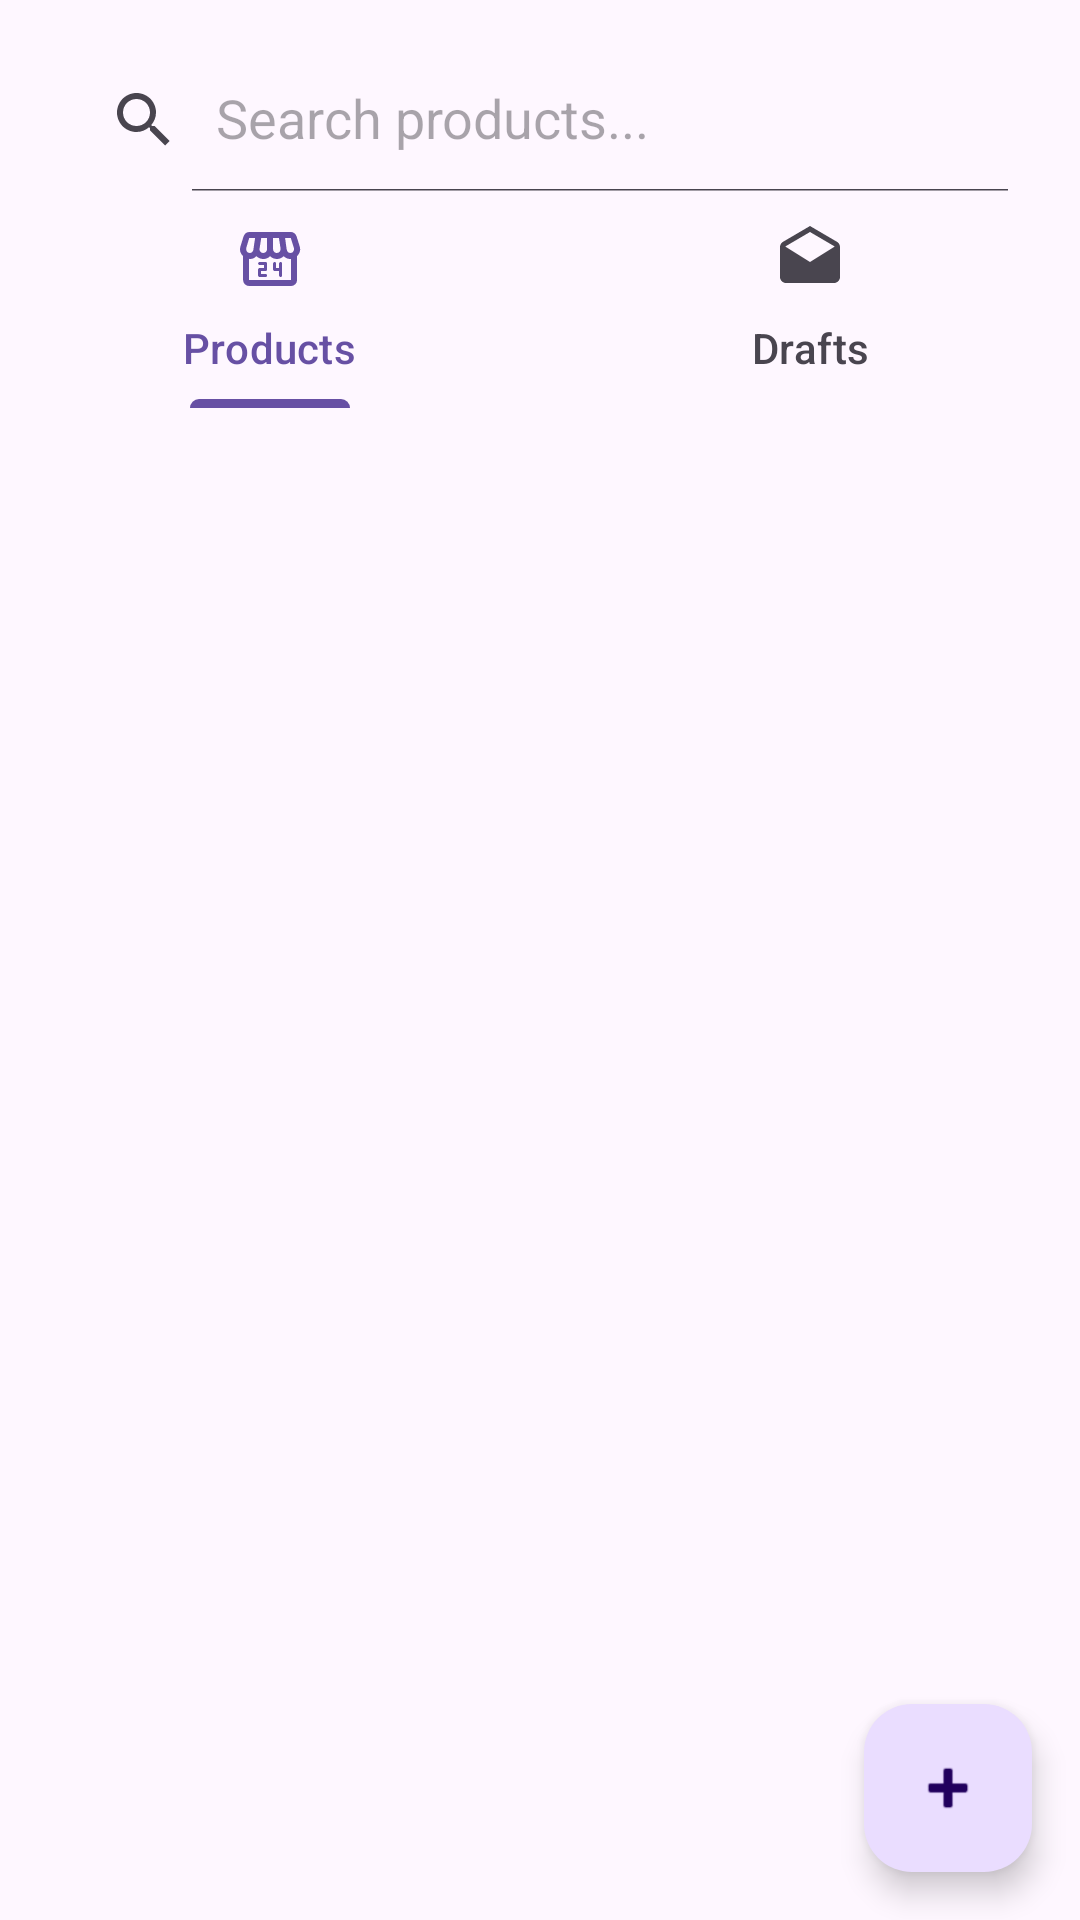

Where icons sit on this 1080w x 1920h app screen, as (x1, y1, x2, y2):
Add Product: (864, 1704, 1032, 1872)
